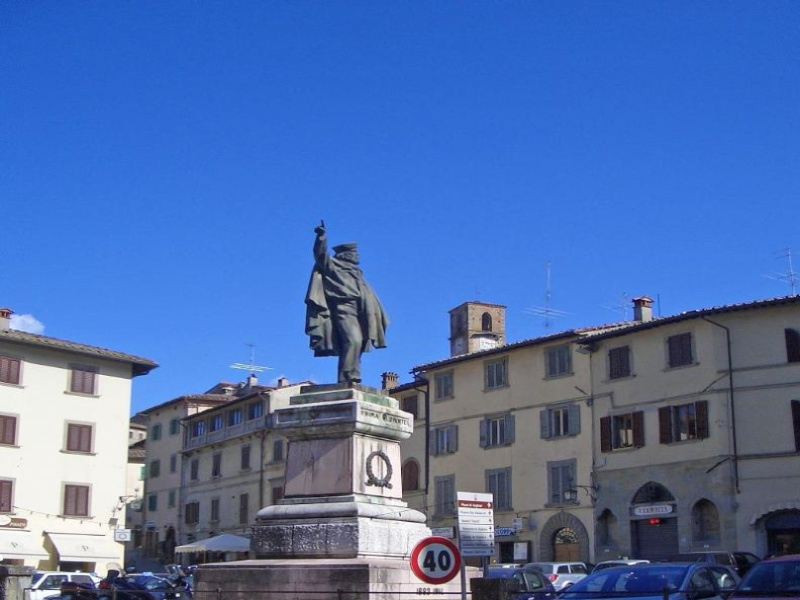speed_limit_40: (410, 534, 465, 587)
